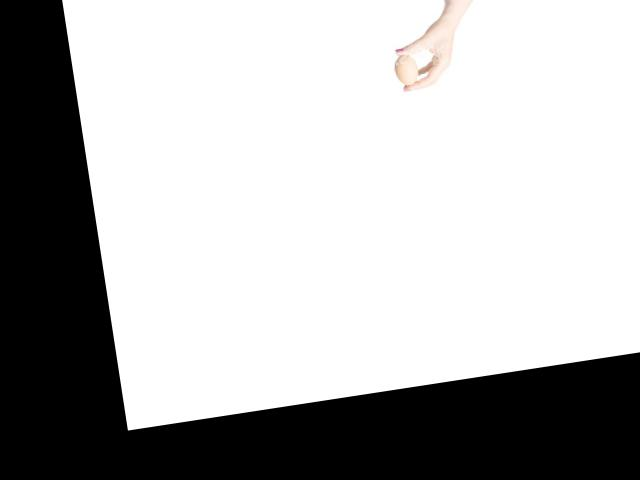egg: (394, 52, 419, 86)
